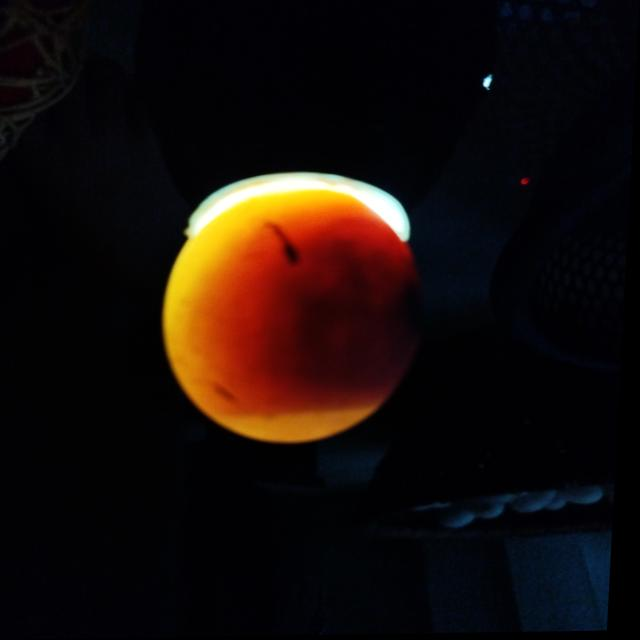Area Infectada: (269, 221, 430, 392)
